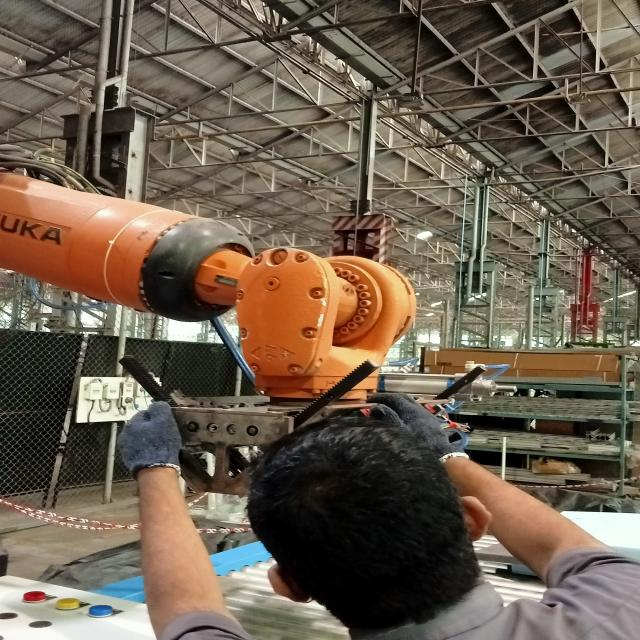Gloves-Detection: (105, 400, 179, 471)
